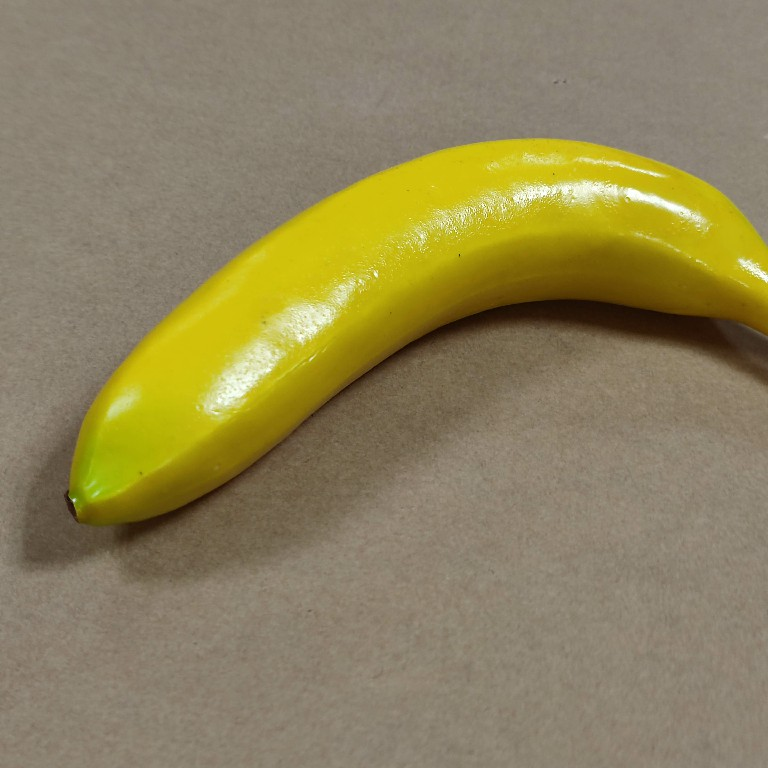fruit_banana: (60, 132, 768, 530)
